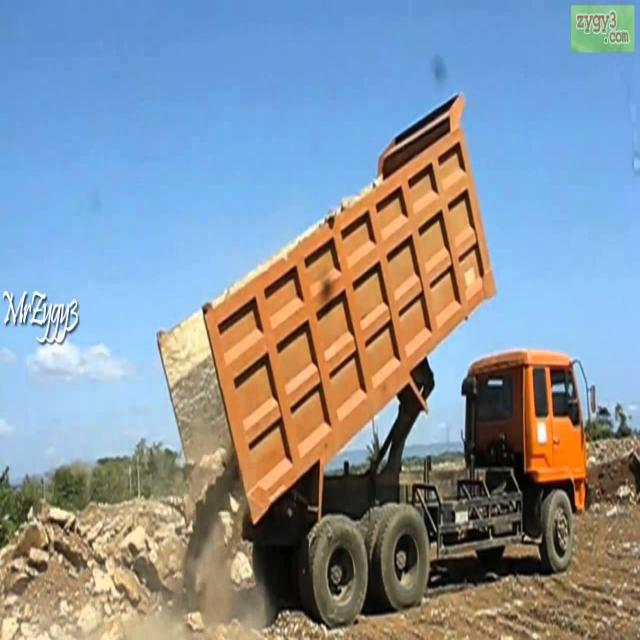truck: (158, 93, 588, 639)
